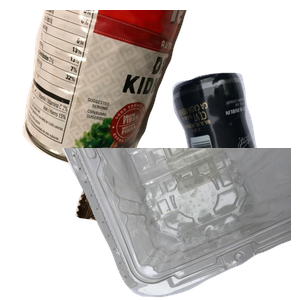glass: (106, 70, 300, 250)
metal: (20, 10, 199, 172)
plastic: (60, 148, 300, 300)
trash: (73, 171, 242, 300)
